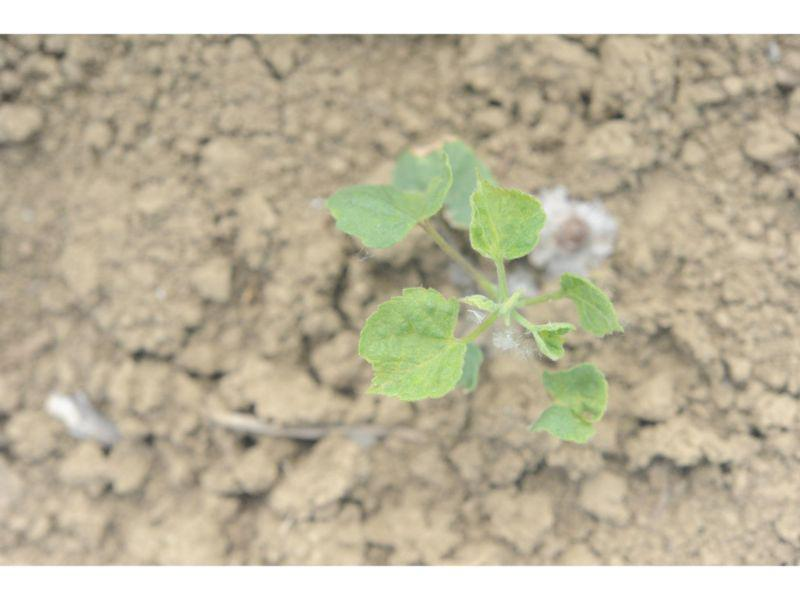velvet: (328, 141, 624, 444)
